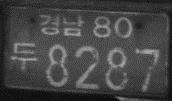0: (114, 15, 133, 40)
2: (74, 44, 100, 90)
7: (134, 47, 160, 93)
8: (104, 46, 128, 92), (45, 43, 68, 88), (92, 15, 112, 38)
경남_O: (39, 12, 83, 37)
두: (9, 40, 39, 70)
